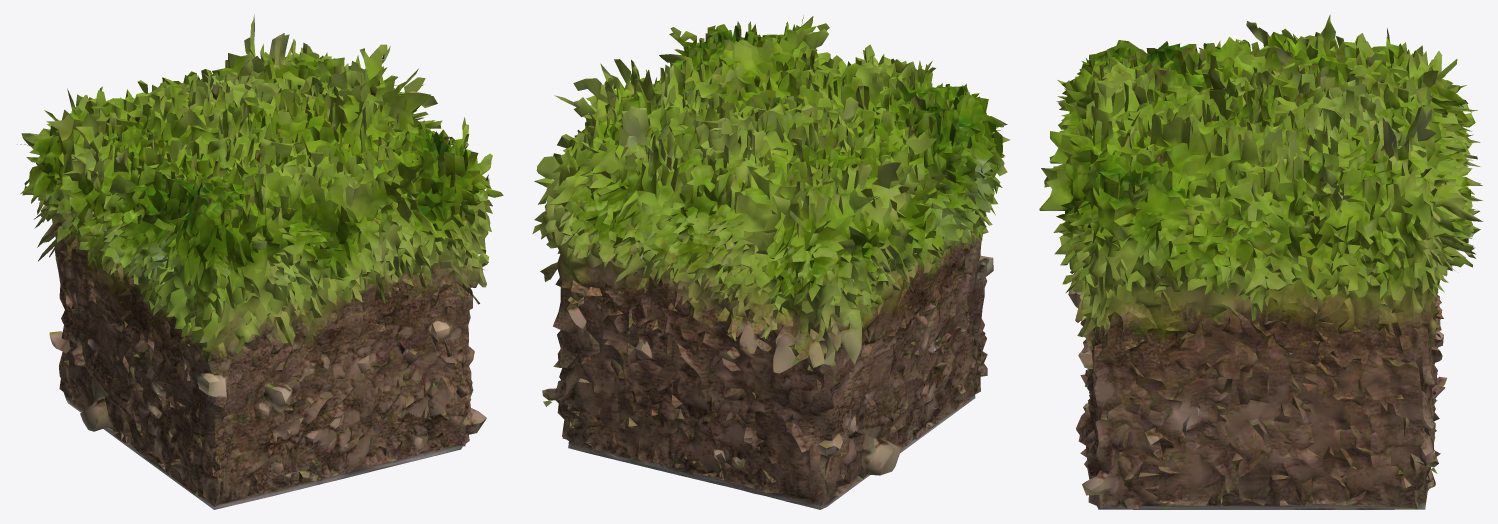
Rendered from soilblock2.glb.
3 renders of one model, left to right at view 1: azimuth 30°, elevation 25°; view 2: azimuth 150°, elevation 25°; view 3: azimuth 270°, elevation 25°, orthographic. The views are drawn at different scales.
Visible parts, largest first — view 1: textured_mesh; view 2: textured_mesh; view 3: textured_mesh.
Part boxes in pixels (x1=…): textured_mesh: x1=17, y1=14, x2=503, y2=509; textured_mesh: x1=532, y1=15, x2=1009, y2=509; textured_mesh: x1=1039, y1=14, x2=1482, y2=509.
Bounding box in the file's own units: 1.95 × 1.82 × 1.98.
Materials: 1 (1 with a texture image).
